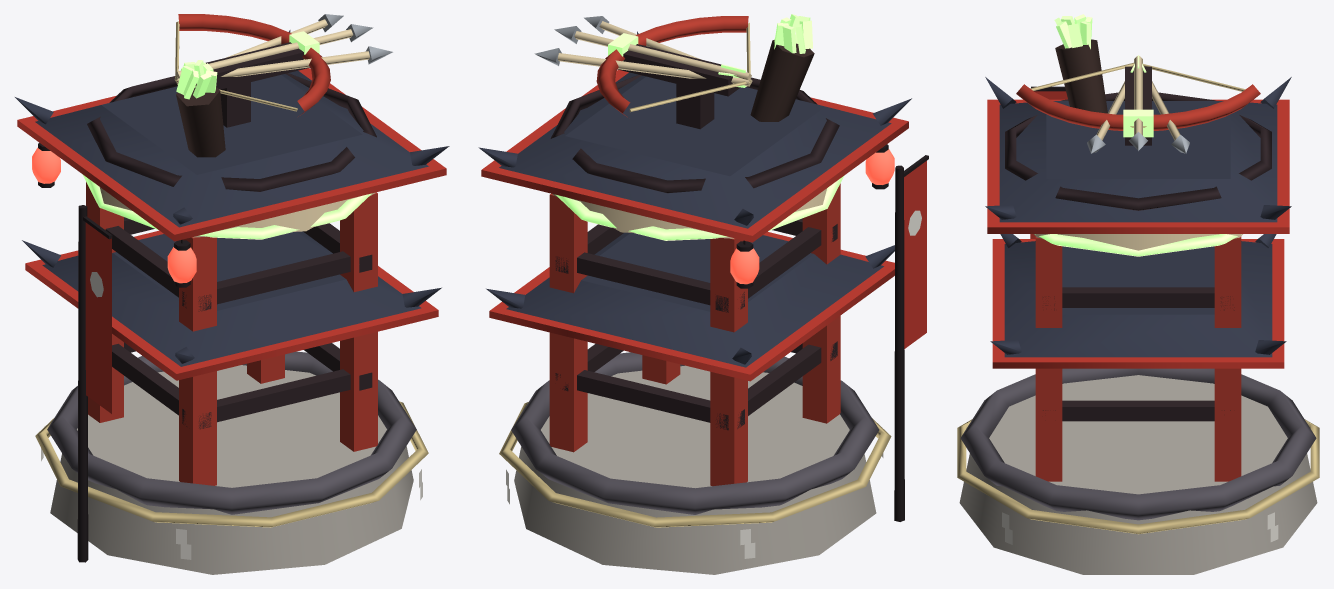
Rendered from tower_archer_volley.glb.
3 renders of one model, left to right at view 1: azimuth 30°, elevation 25°; view 2: azimuth 150°, elevation 25°; view 3: azimuth 270°, elevation 25°, orthographic. The views are drawn at different scales.
Visible parts, largest first — view 1: base, deco_eave_0_roof, deco_eave_1_roof, base_rim, deco_eave_0_rim, post_wn, post_en, deco_eave_1_rim, deco_shimenawa_rope, rail, deco_nobori_cloth, deco_nobori_pole (+20 smaller); view 2: base, deco_eave_0_roof, deco_eave_1_roof, base_rim, deco_eave_0_rim, post_es, post_ws, deco_eave_1_rim, deco_shimenawa_rope, post_wn, rail, deco_nobori_cloth (+20 smaller); view 3: base, deco_eave_0_roof, deco_eave_1_roof, base_rim, deco_eave_0_rim, deco_eave_1_rim, post_en, post_es, deco_shimenawa_rope, rail, bow, beam_z_0_e (+9 smaller).
Part boxes in pixels (box(x1,y1,x2,y2)): base: box(50, 365, 413, 574); deco_eave_0_roof: box(35, 70, 428, 227); deco_eave_1_roof: box(42, 231, 421, 366); base_rim: box(47, 351, 416, 514); deco_eave_0_rim: box(17, 68, 446, 241); post_wn: box(179, 236, 216, 485); post_en: box(340, 192, 377, 451); deco_eave_1_rim: box(25, 230, 438, 380); deco_shimenawa_rope: box(35, 401, 428, 527); rail: box(87, 73, 376, 191); deco_nobori_cloth: box(85, 222, 111, 413); deco_nobori_pole: box(77, 205, 88, 562); base: box(514, 365, 876, 574); deco_eave_0_roof: box(499, 72, 891, 228); deco_eave_1_roof: box(506, 232, 883, 367); base_rim: box(511, 352, 879, 514); deco_eave_0_rim: box(481, 69, 908, 242); post_es: box(549, 193, 587, 452); post_ws: box(710, 238, 747, 486); deco_eave_1_rim: box(489, 231, 894, 381); deco_shimenawa_rope: box(499, 402, 891, 527); post_wn: box(802, 183, 840, 423); rail: box(550, 75, 839, 193); deco_nobori_cloth: box(904, 161, 926, 348); base: box(959, 375, 1317, 574); deco_eave_0_roof: box(999, 101, 1277, 222); deco_eave_1_roof: box(1004, 241, 1272, 357); base_rim: box(960, 368, 1316, 520); deco_eave_0_rim: box(987, 99, 1289, 233); deco_eave_1_rim: box(992, 239, 1284, 368); post_en: box(1035, 236, 1062, 481); post_es: box(1214, 236, 1241, 481); deco_shimenawa_rope: box(957, 419, 1319, 534); rail: box(1005, 92, 1271, 210); bow: box(1016, 84, 1260, 130); beam_z_0_e: box(1062, 400, 1214, 421).
Size of the model in its own units: 0.4387 by 0.5582 by 0.4052.
